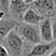cell: (21, 7, 43, 25), (22, 27, 41, 42), (7, 33, 23, 50), (31, 44, 51, 55)
